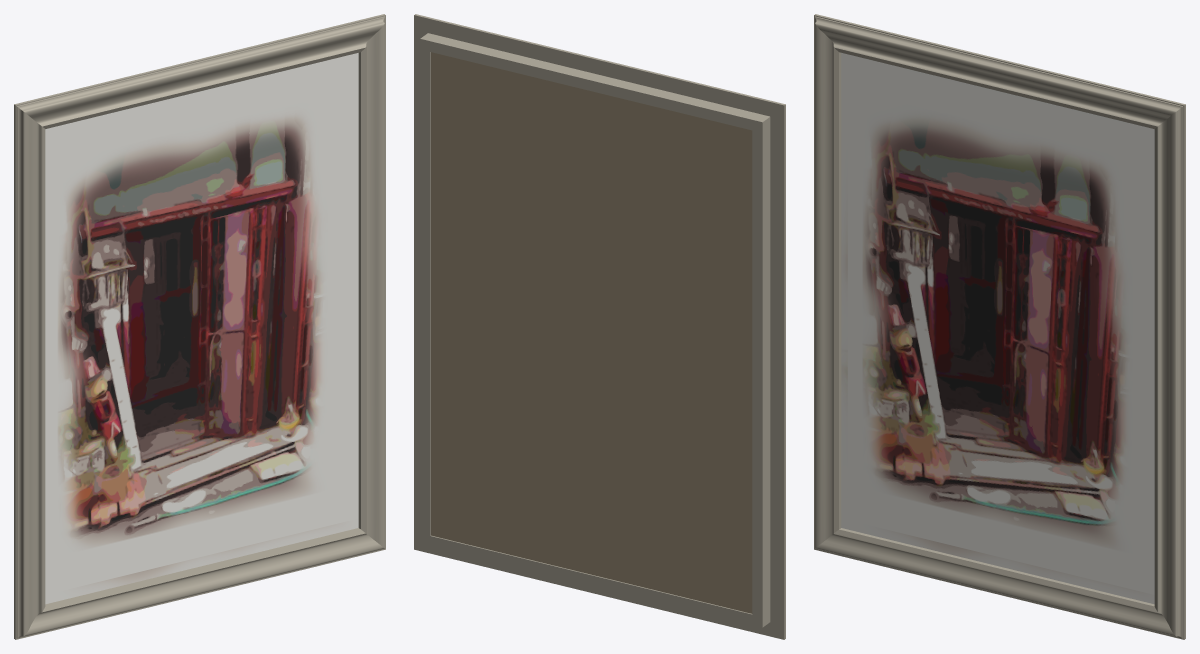
The model's file is 370_flame_L.fbx.
The picture shows the model from 3 angles, left to right: view 1: azimuth 30°, elevation 25°; view 2: azimuth 150°, elevation 25°; view 3: azimuth 330°, elevation 25°; orthographic projection.
Parts seen in each view (by area): view 1: Body4; view 2: Body4; view 3: Body4.
Part boxes in pixels (box(x1,y1,x2,y2)): Body4: box(14, 14, 385, 639); Body4: box(414, 14, 785, 639); Body4: box(814, 14, 1185, 639).
Bounding box in the file's own units: 72.7 × 100 × 4.45.
4 materials, 1 textured.
